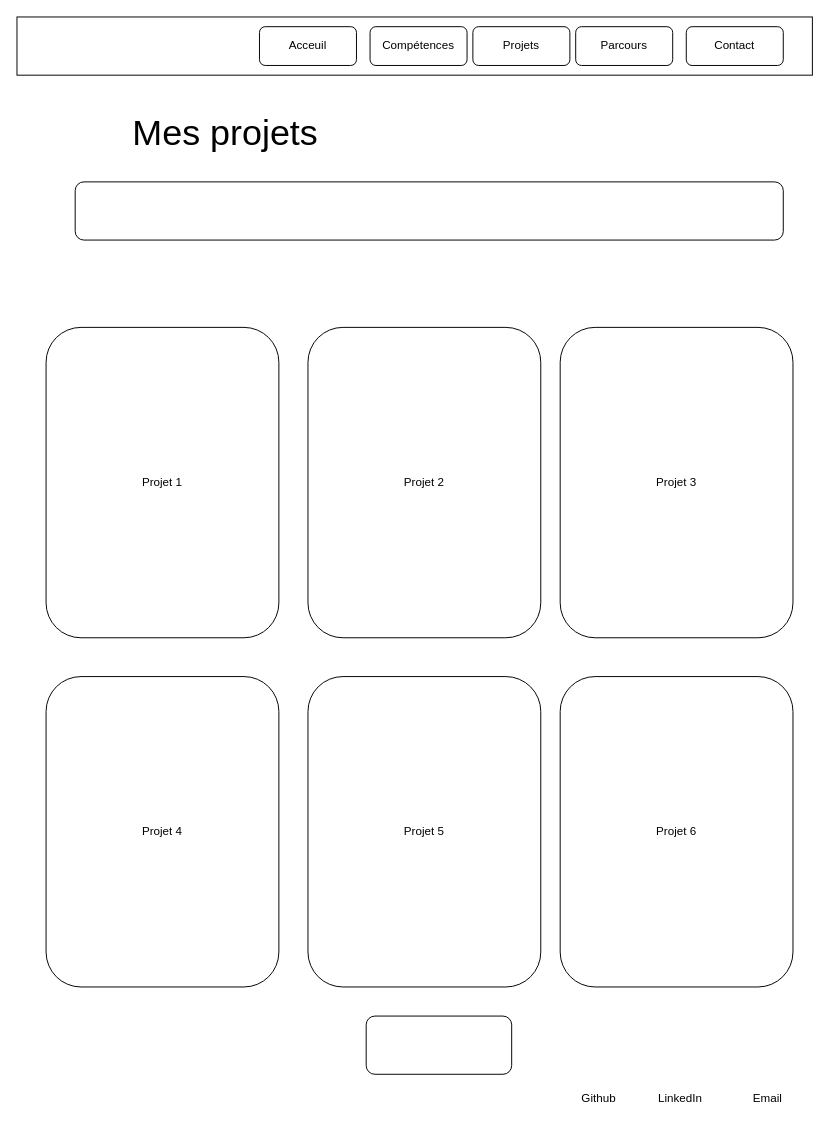
Some shapes in this 829 by 1130 pixel diagram are drawn without their labels. Here are the shapes that lost their labels. From the top down, the centre of each, then its label:
At pixel 428 210: "Barre de recherche du projet : anné, type, technologie...".
At pixel 438 1044: "Affficher plus de projet".
